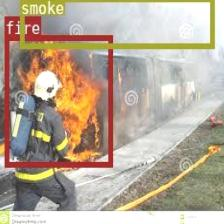fire: (4, 34, 112, 167)
smoke: (19, 0, 214, 47)
